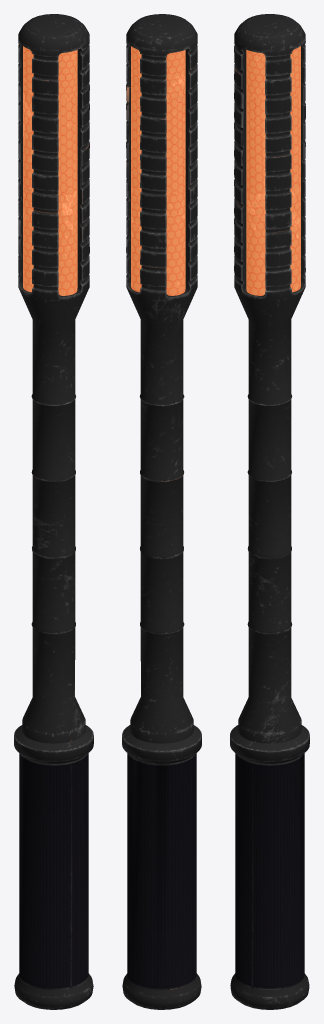
File: stun_baton.glb
3 renders of one model, left to right at view 1: azimuth 30°, elevation 25°; view 2: azimuth 210°, elevation 25°; view 3: azimuth 330°, elevation 25°, orthographic.
Visible parts, largest first — view 1: Batton_low; view 2: Batton_low; view 3: Batton_low.
Part boxes in pixels (x1,y1,x2,y2): Batton_low: [14, 14, 93, 1009]; Batton_low: [122, 14, 201, 1009]; Batton_low: [230, 14, 309, 1009].
Bounding box in the file's own units: 126 × 1695 × 126.
1 material, 1 textured.
